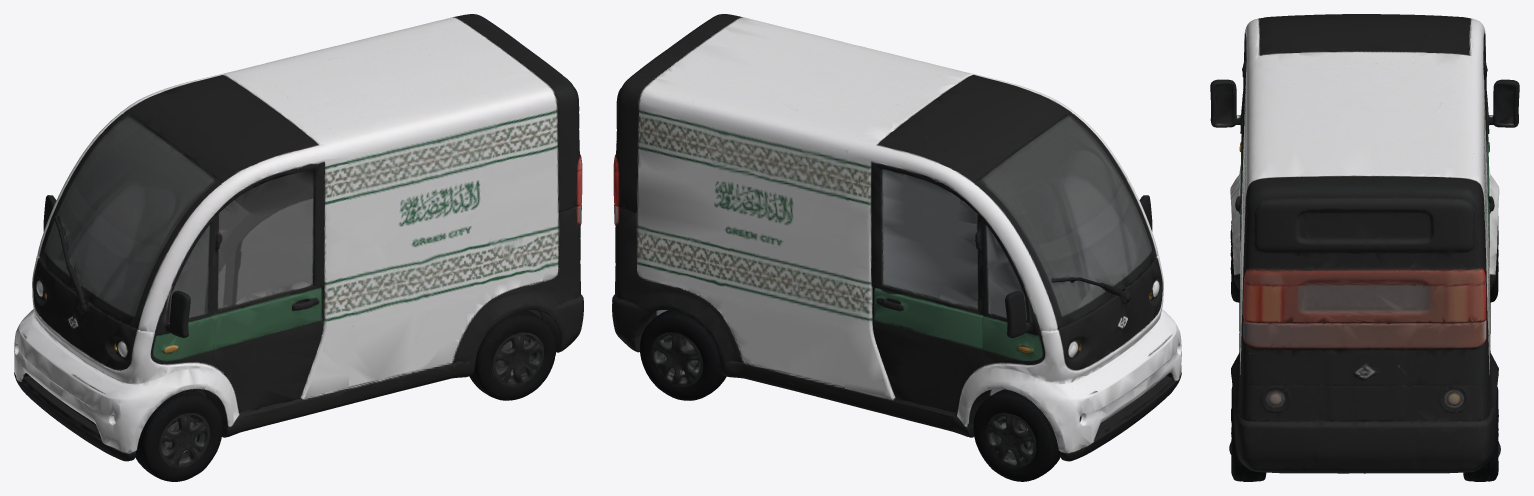
File: shuttle.glb
3 views of the same model, side by side, from view 1: azimuth 30°, elevation 25°; view 2: azimuth 150°, elevation 25°; view 3: azimuth 270°, elevation 25° (orthographic). The views are drawn at different scales.
Visible parts, largest first — view 1: mesh_node; view 2: mesh_node; view 3: mesh_node.
Part boxes in pixels (box(x1,y1,x2,y2)): mesh_node: box(14, 14, 583, 481); mesh_node: box(612, 14, 1181, 481); mesh_node: box(1210, 14, 1519, 481).
Bounding box in the file's own units: 1.9 × 1.13 × 0.9748.
Materials: 1 (1 with a texture image).
